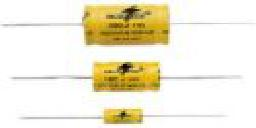Electrolytic Capacitor: (2, 1, 256, 52), (5, 59, 252, 101), (14, 104, 246, 126)
